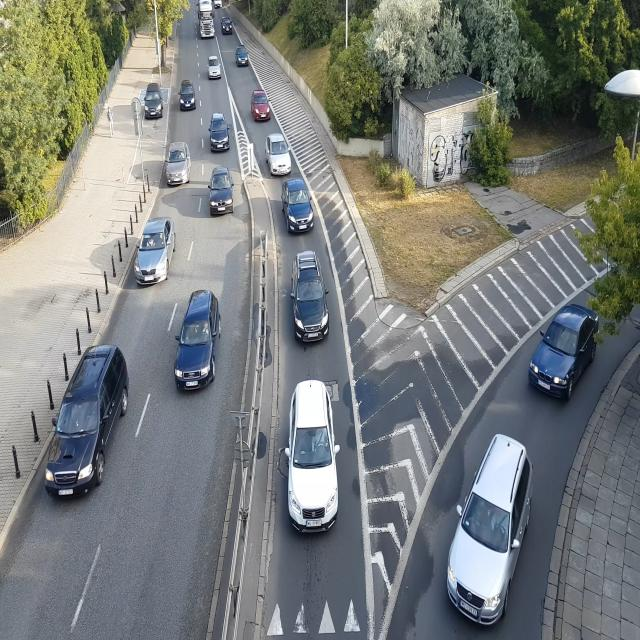car: (447, 435, 535, 626), (44, 342, 132, 506), (283, 376, 341, 530), (529, 306, 603, 403), (175, 283, 224, 403), (292, 252, 330, 343), (136, 218, 176, 287), (281, 180, 314, 233), (208, 169, 236, 216), (164, 142, 192, 186), (266, 134, 293, 176), (208, 114, 231, 154), (252, 91, 274, 121), (143, 89, 165, 119), (180, 80, 199, 110), (220, 15, 236, 39), (207, 58, 222, 80), (235, 48, 249, 66)
truck: (197, 0, 215, 44)
